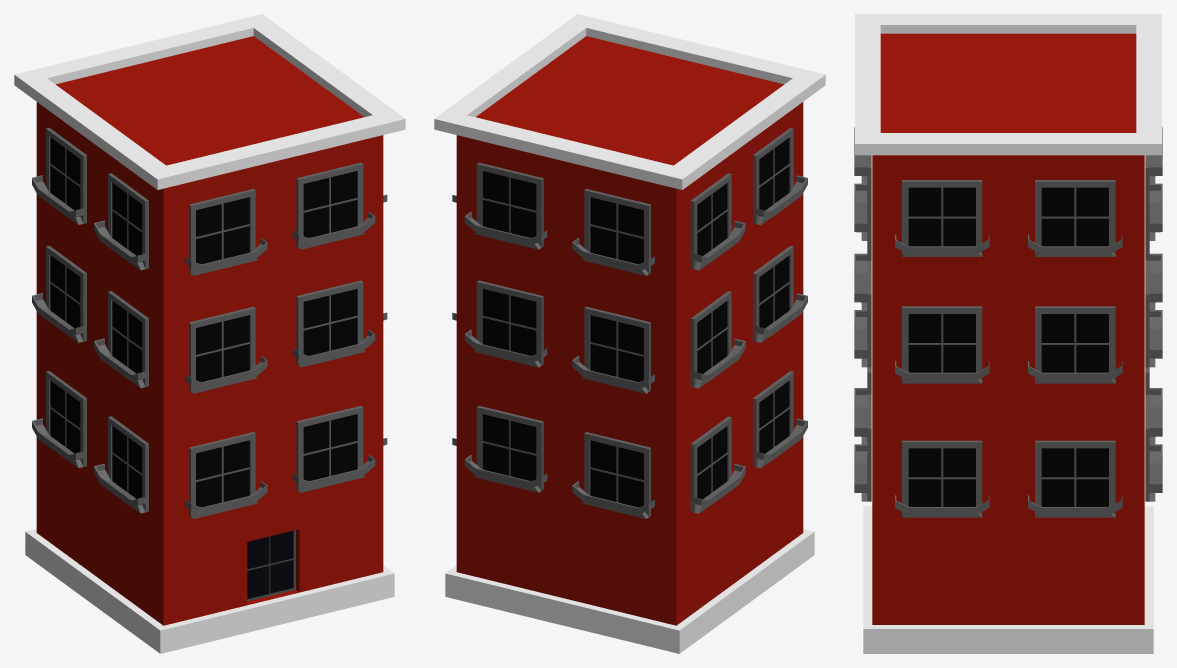
Rendered from buiildingred.fbx.
The picture shows the model from 3 angles, left to right: view 1: azimuth 30°, elevation 25°; view 2: azimuth 150°, elevation 25°; view 3: azimuth 270°, elevation 25°; orthographic projection. The views are drawn at different scales.
Visible parts, largest first — view 1: Cube; view 2: Cube; view 3: Cube.
Part boxes in pixels (bbox=[...]): Cube: bbox=[14, 14, 405, 653]; Cube: bbox=[434, 14, 825, 653]; Cube: bbox=[854, 14, 1162, 653].
Bounding box in the file's own units: 461 × 846 × 461.
1 material, 1 textured.
